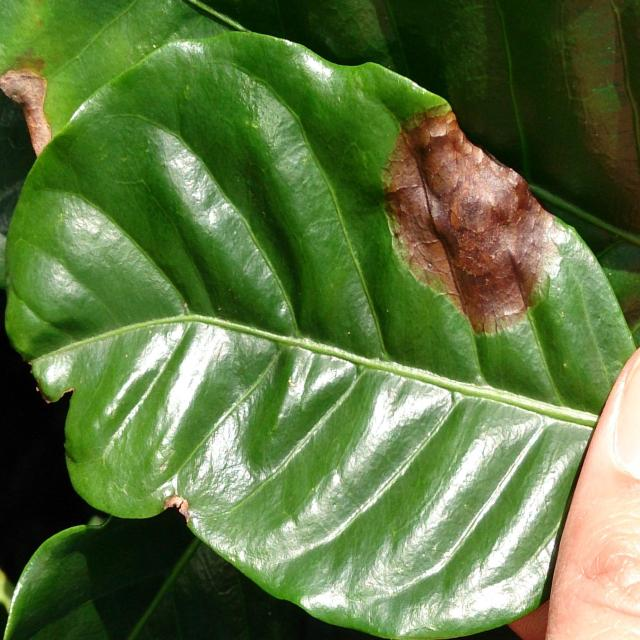Enfermedad-Mancha-de-hierro: (1, 27, 634, 640)
